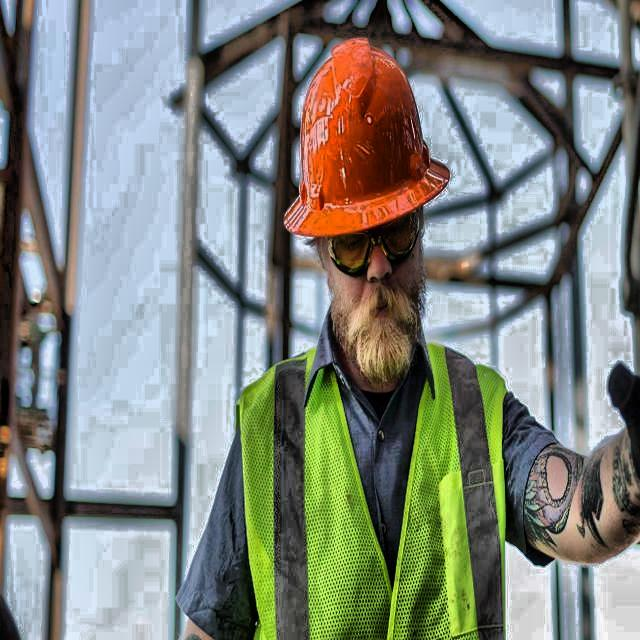person: (195, 35, 640, 640)
